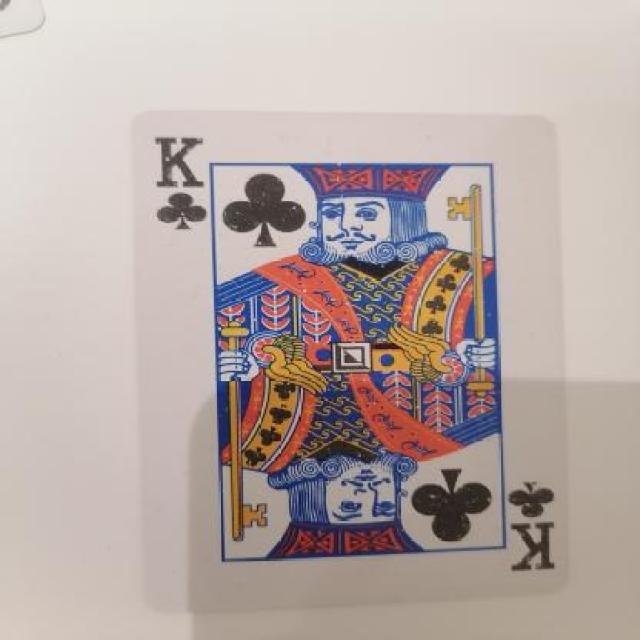KC: (141, 131, 214, 232), (500, 477, 568, 581)
